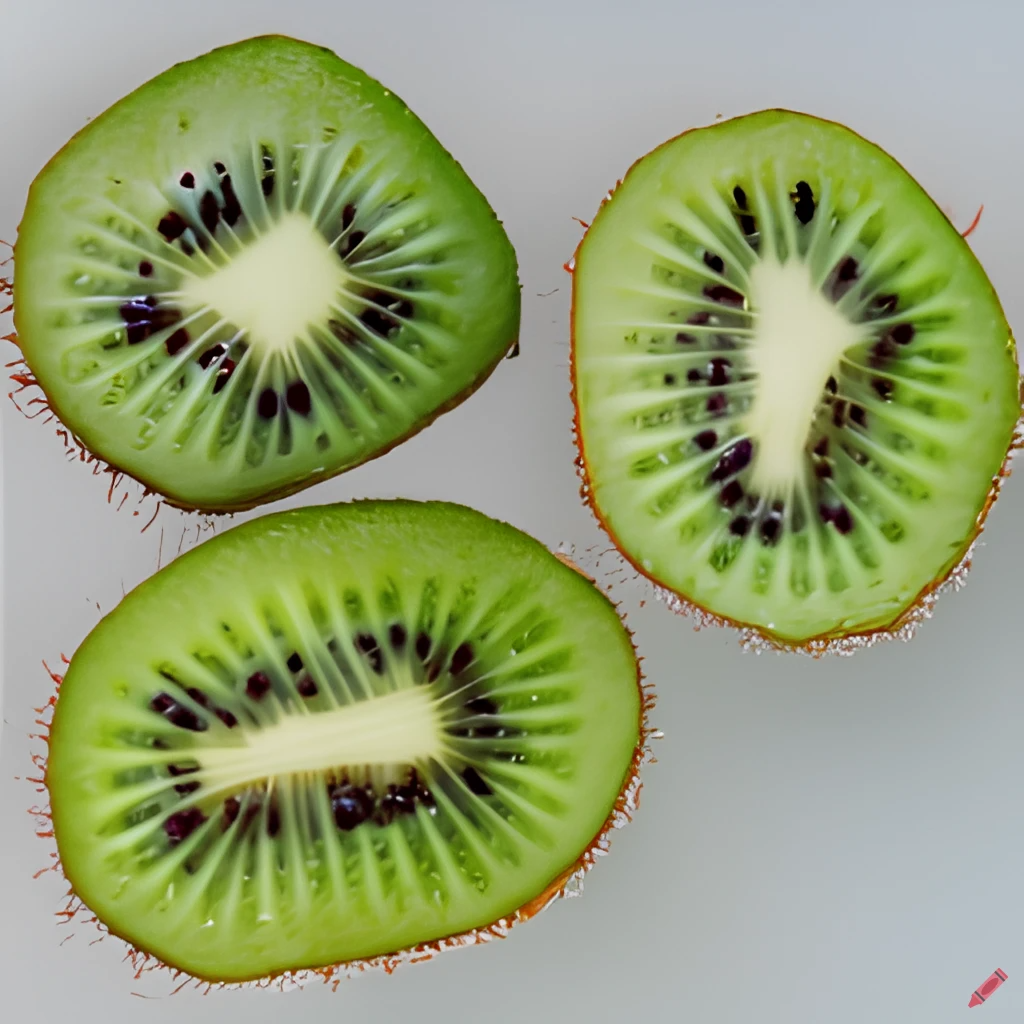Kiwi: (28, 491, 688, 972)
